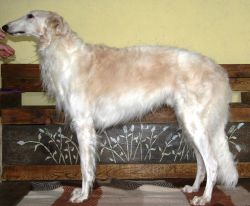borzoi: (1, 10, 244, 204)
